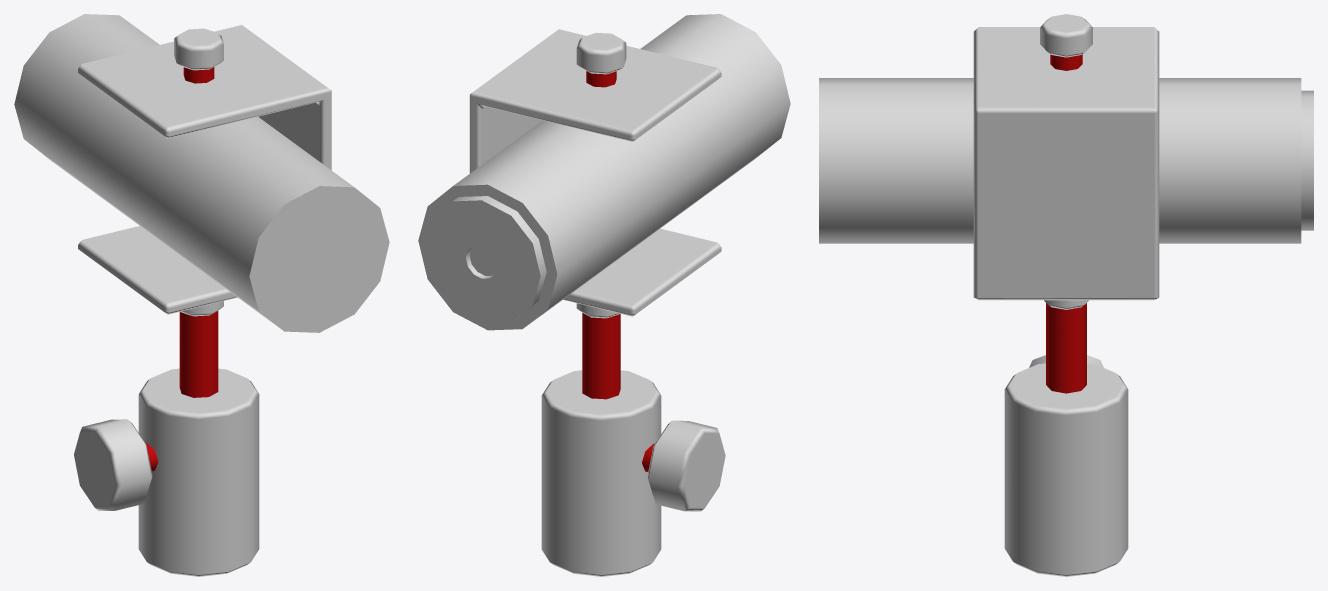
The model's file is Laser02.fbx.
3 views of the same model, side by side, from view 1: azimuth 30°, elevation 25°; view 2: azimuth 150°, elevation 25°; view 3: azimuth 270°, elevation 25° (orthographic). The views are drawn at different scales.
Parts seen in each view (by area): view 1: Laser02Support, Laser02; view 2: Laser02Support, Laser02; view 3: Laser02Support, Laser02.
Part boxes in pixels (left/top/right/bottom): Laser02Support: left=74, top=25, right=331, bottom=576; Laser02: left=14, top=14, right=389, bottom=332; Laser02Support: left=469, top=29, right=725, bottom=576; Laser02: left=418, top=14, right=790, bottom=330; Laser02Support: left=973, top=14, right=1159, bottom=576; Laser02: left=819, top=78, right=1313, bottom=243.
Size of the model in its own units: 4.65 by 10 by 11.82.
